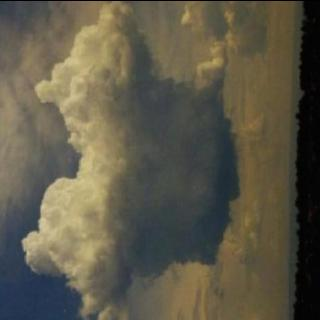Cumulus: (1, 0, 292, 320)
